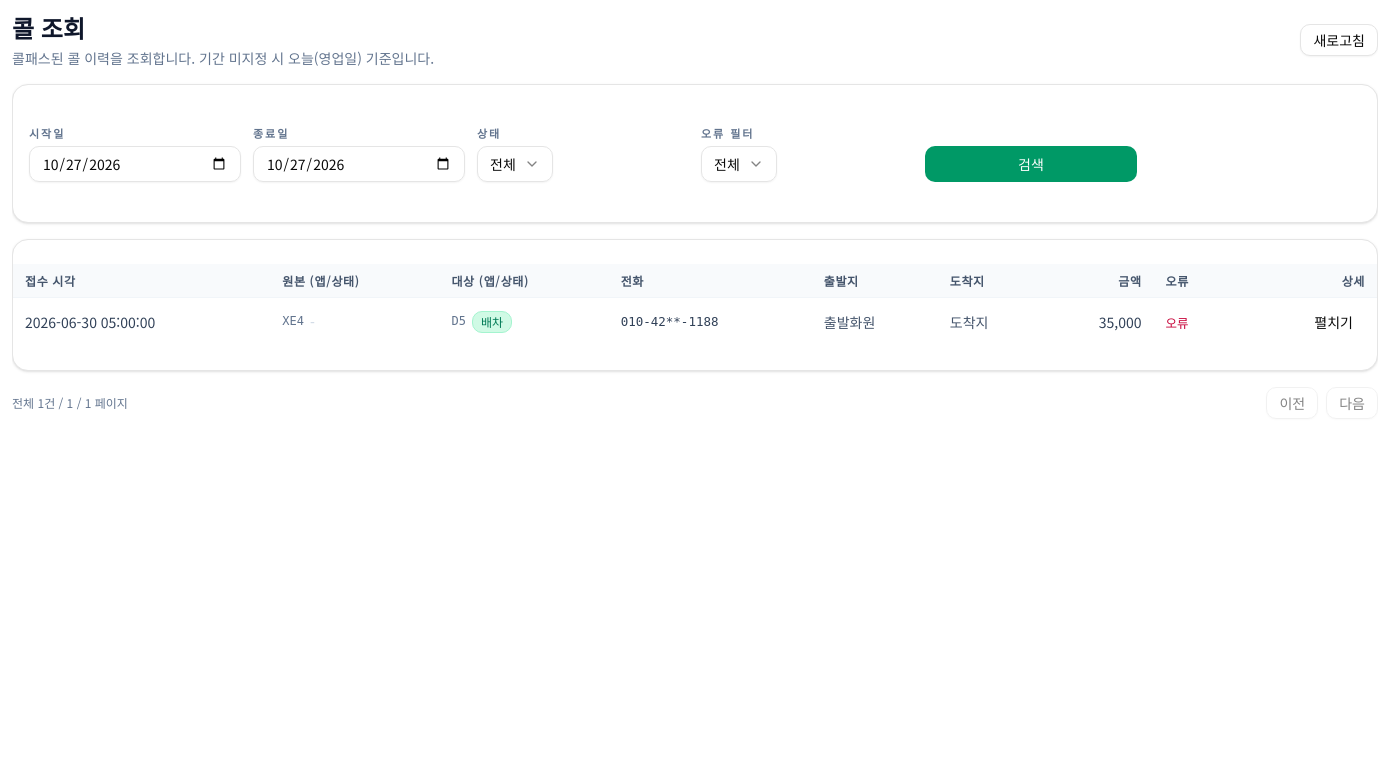
AircpmCallsPage › 펼침 상세: 주문번호/후처리 오류 표시
This screenshot has width=1390, height=780.
Check: the text "010-42**-1188" is shown, box [609,297,812,346]
Click the button "펼치기".
click(1334, 322)  # box [1302,306,1365,338]
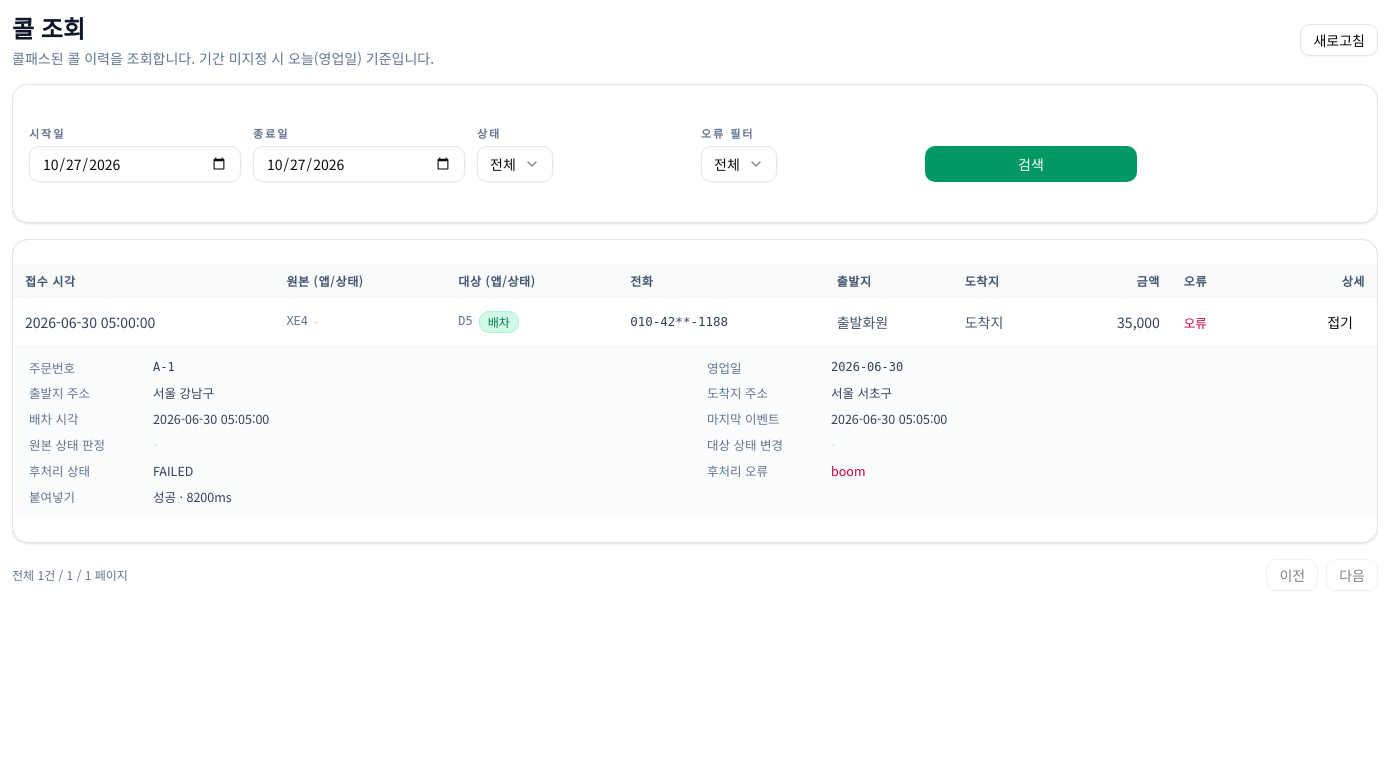
Check: the text "A-1" is shown, box [153,360,175,374]
Check: the text "boom" is shown, box [831,461,866,480]
